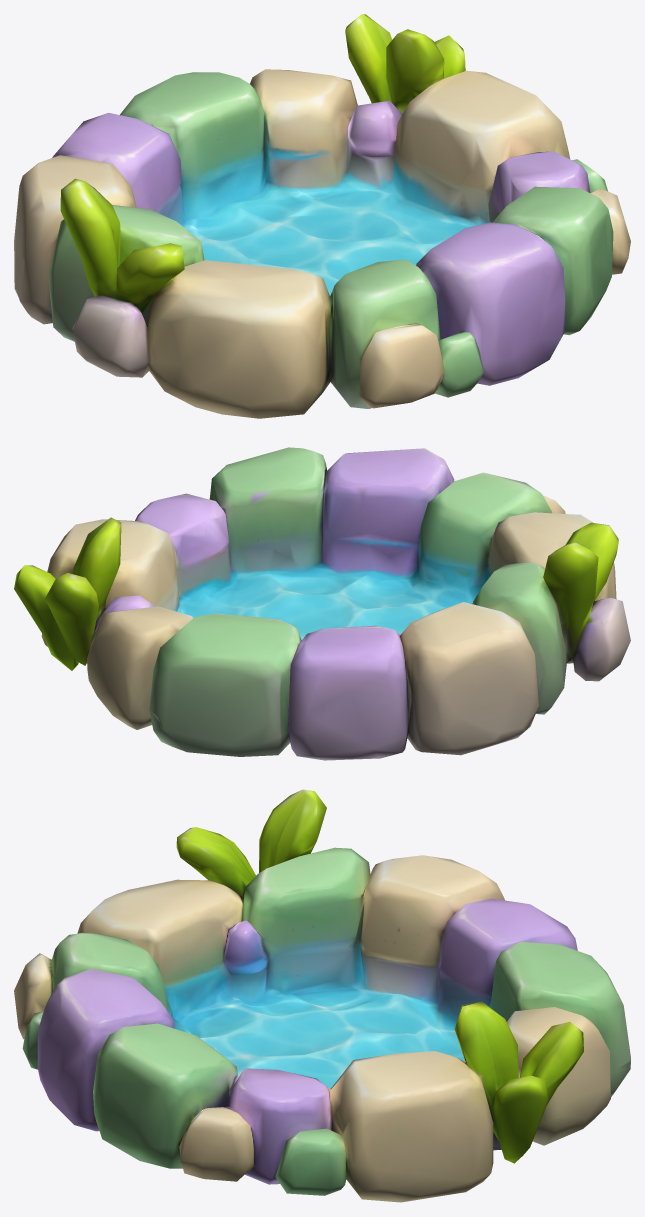
The model's file is Kit_M_PuddleRim_raw.glb.
3 views of the same model, one above another, from view 1: azimuth 30°, elevation 25°; view 2: azimuth 150°, elevation 25°; view 3: azimuth 270°, elevation 25° (orthographic). The views are drawn at different scales.
Parts seen in each view (by area): view 1: tripo_node_5e88ac3d-ec43-4973-84bc-ee822dab0282; view 2: tripo_node_5e88ac3d-ec43-4973-84bc-ee822dab0282; view 3: tripo_node_5e88ac3d-ec43-4973-84bc-ee822dab0282.
Part boxes in pixels (x1=…): tripo_node_5e88ac3d-ec43-4973-84bc-ee822dab0282: x1=14, y1=14, x2=630, y2=418; tripo_node_5e88ac3d-ec43-4973-84bc-ee822dab0282: x1=14, y1=447, x2=630, y2=760; tripo_node_5e88ac3d-ec43-4973-84bc-ee822dab0282: x1=14, y1=789, x2=630, y2=1202.
Size of the model in its own units: 0.9984 by 0.3091 by 1.
1 material, 1 textured.
